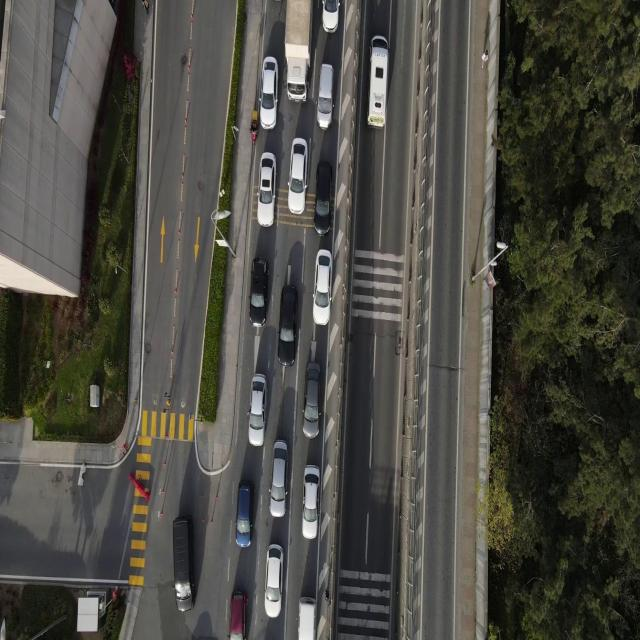p3rson: (140, 0, 150, 15), (482, 50, 488, 69)
